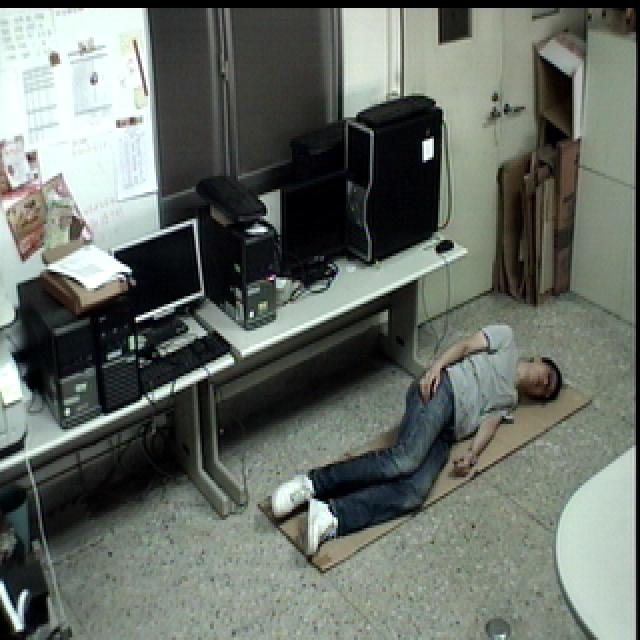lie: (261, 315, 567, 566)
